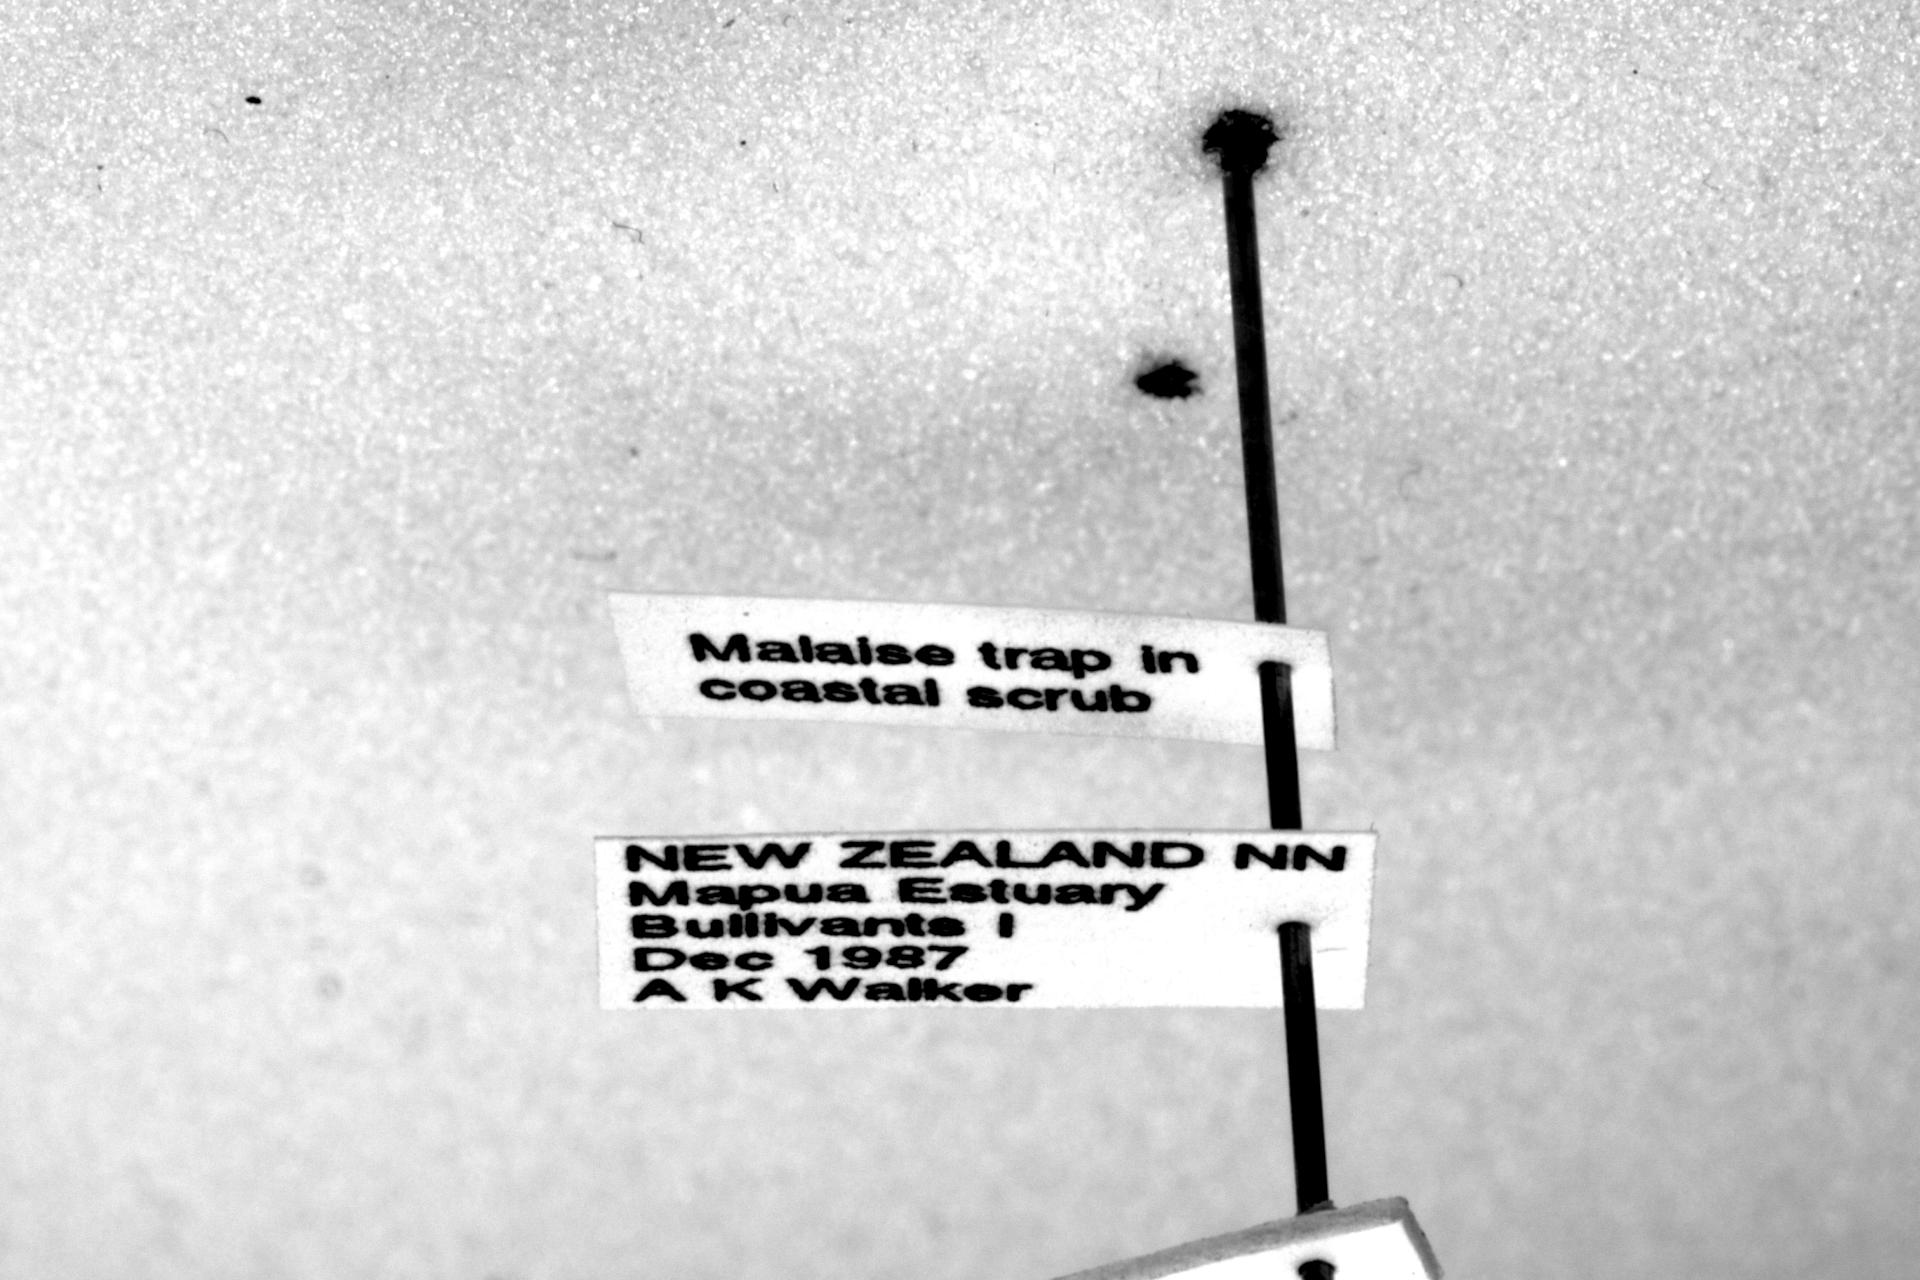typed_label: (596, 833, 1376, 1009), (611, 593, 1334, 750)
